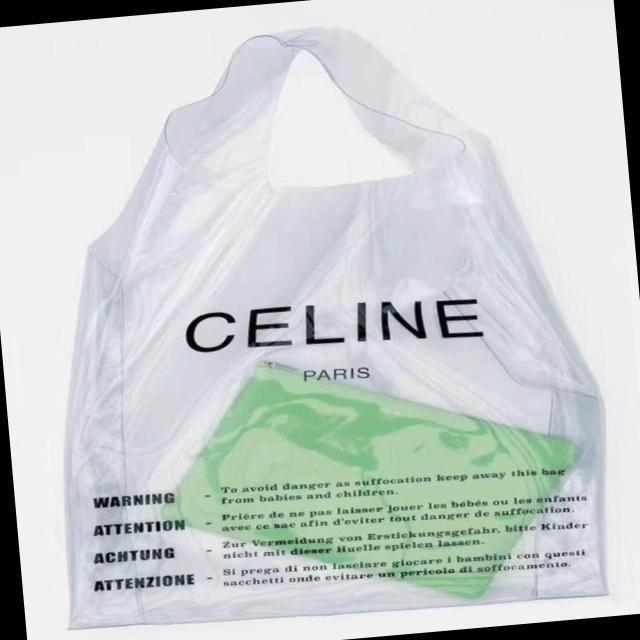Plastic_Bag: (34, 11, 614, 634)
